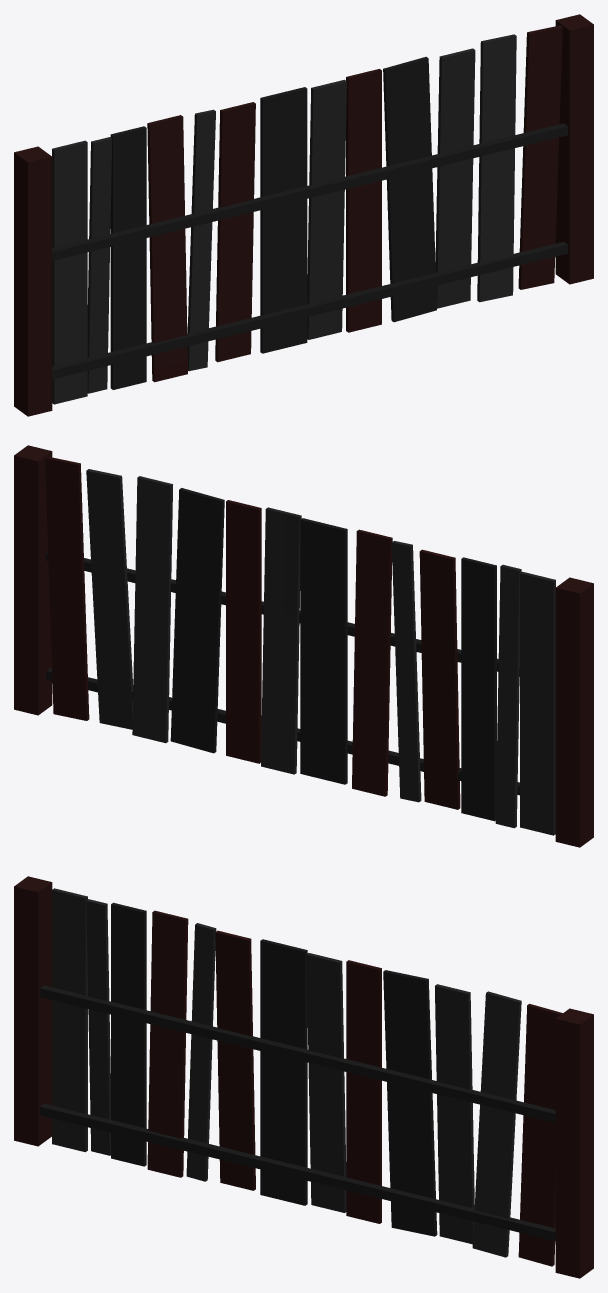
Rendered from SM_fence02.FBX.
The picture shows the model from 3 angles, top to bottom: view 1: azimuth 30°, elevation 25°; view 2: azimuth 150°, elevation 25°; view 3: azimuth 330°, elevation 25°; orthographic projection.
Visible parts, largest first — view 1: Fence_02; view 2: Fence_02; view 3: Fence_02.
Boxes of the visible parts, x1,y1,x2,y2 form: Fence_02: [14, 14, 593, 416]; Fence_02: [14, 445, 593, 847]; Fence_02: [14, 876, 593, 1278].
Bounding box in the file's own units: 466 × 201 × 20.
